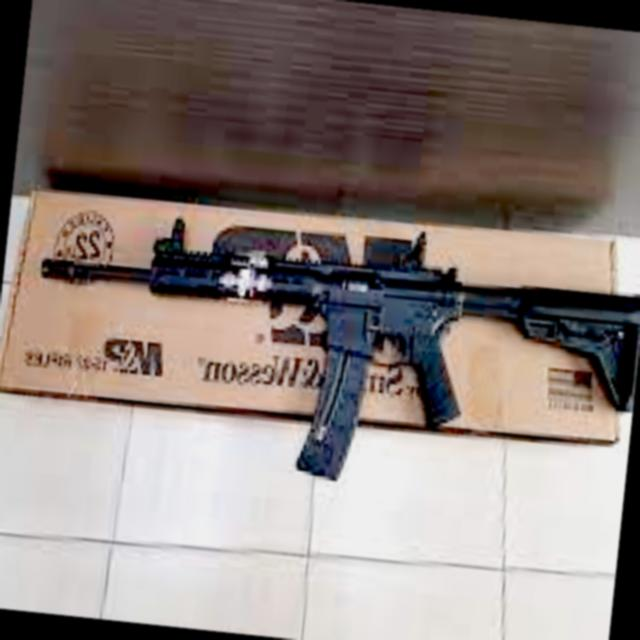m16: (2, 195, 628, 525)
